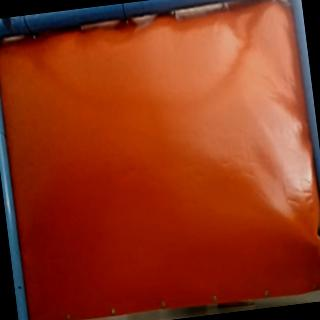Hit-hRxx: (307, 235, 320, 254)
